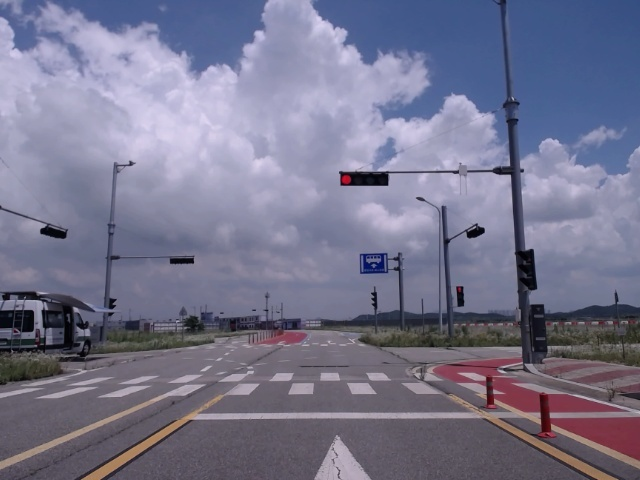red_4: (340, 174, 389, 186)
